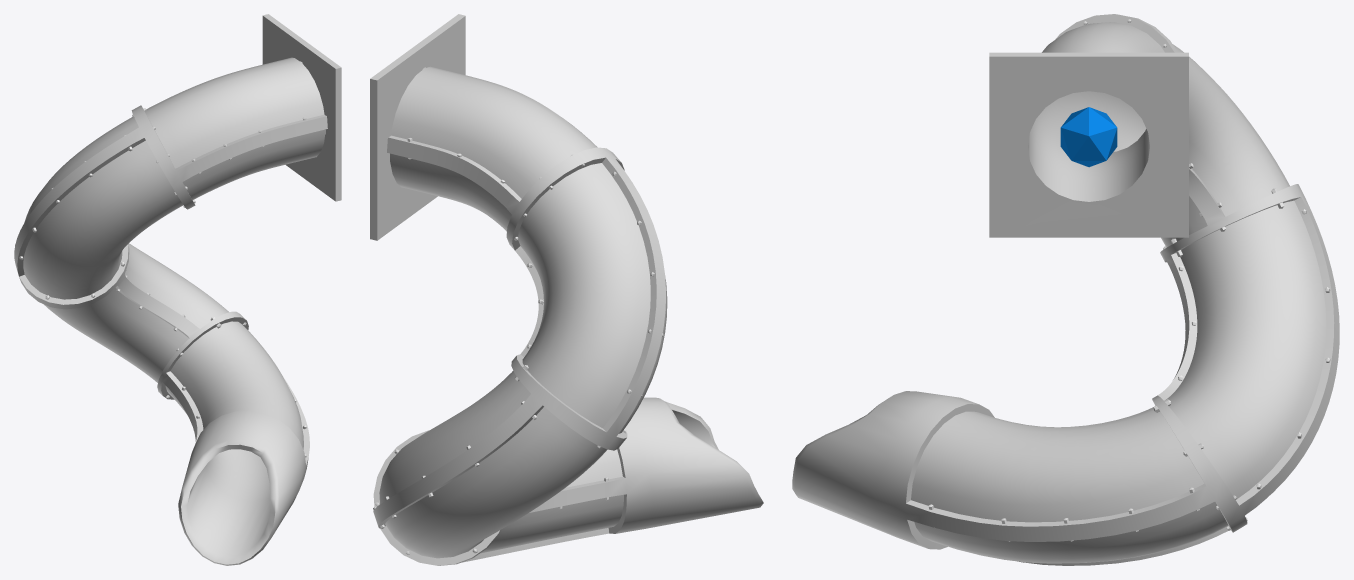
The model's file is Turbo twister slider 7'.glb.
3 renders of one model, left to right at view 1: azimuth 30°, elevation 25°; view 2: azimuth 150°, elevation 25°; view 3: azimuth 270°, elevation 25°, orthographic. The views are drawn at different scales.
Visible parts, largest first — view 1: NurbsPath, Side winder slide.007; view 2: NurbsPath, Side winder slide.007; view 3: NurbsPath, Joint.051, Side winder slide.007.
Part boxes in pixels (bbox=[...]): NurbsPath: bbox=[14, 14, 341, 565]; Side winder slide.007: bbox=[15, 108, 306, 457]; NurbsPath: bbox=[370, 14, 763, 565]; Side winder slide.007: bbox=[373, 138, 665, 554]; NurbsPath: bbox=[792, 14, 1339, 565]; Joint.051: bbox=[1060, 107, 1117, 167]; Side winder slide.007: bbox=[928, 19, 1330, 541].
Bounding box in the file's own units: 1.87 × 2.82 × 2.51.
